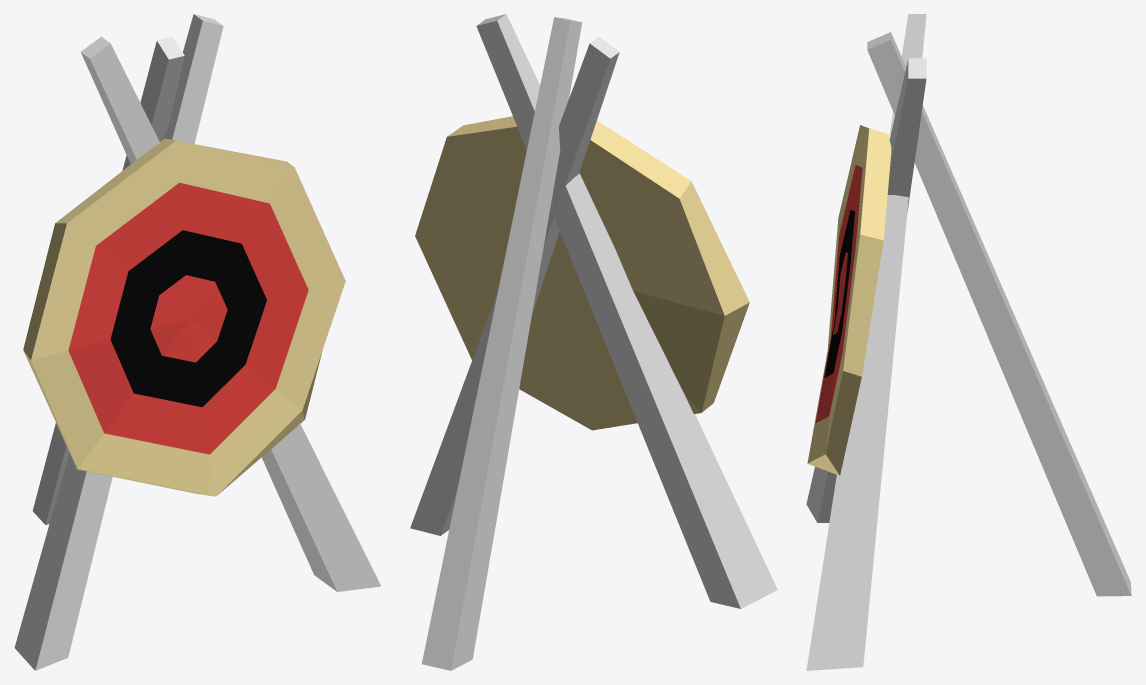
The model's file is archery_target.glb.
3 views of the same model, side by side, from view 1: azimuth 30°, elevation 25°; view 2: azimuth 150°, elevation 25°; view 3: azimuth 270°, elevation 25° (orthographic).
Visible parts, largest first — view 1: Cylinder, Cube; view 2: Cube, Cylinder; view 3: Cube, Cylinder.
Part boxes in pixels (<box>): Cylinder: <box>23,138,345,496</box>; Cube: <box>14,14,381,670</box>; Cube: <box>410,14,777,670</box>; Cylinder: <box>415,116,749,430</box>; Cube: <box>806,14,1131,670</box>; Cylinder: <box>807,125,891,475</box>.
Size of the model in its own units: 1.69 by 2.6 by 1.39.
